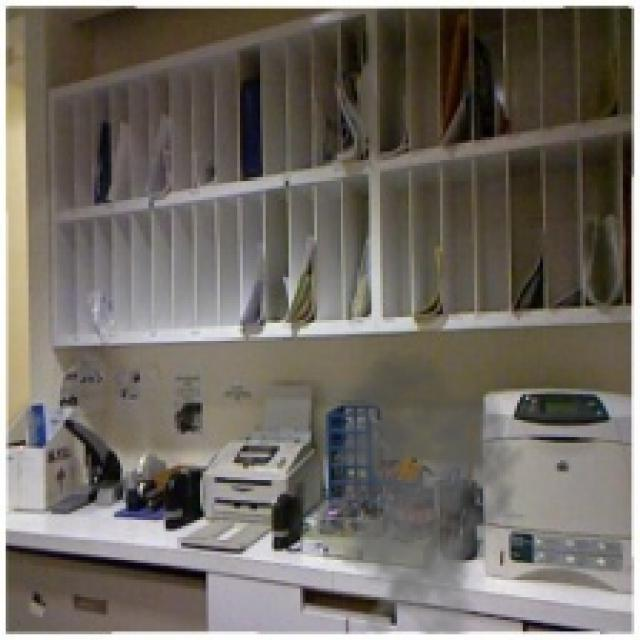Smoke: (303, 352, 526, 634)
